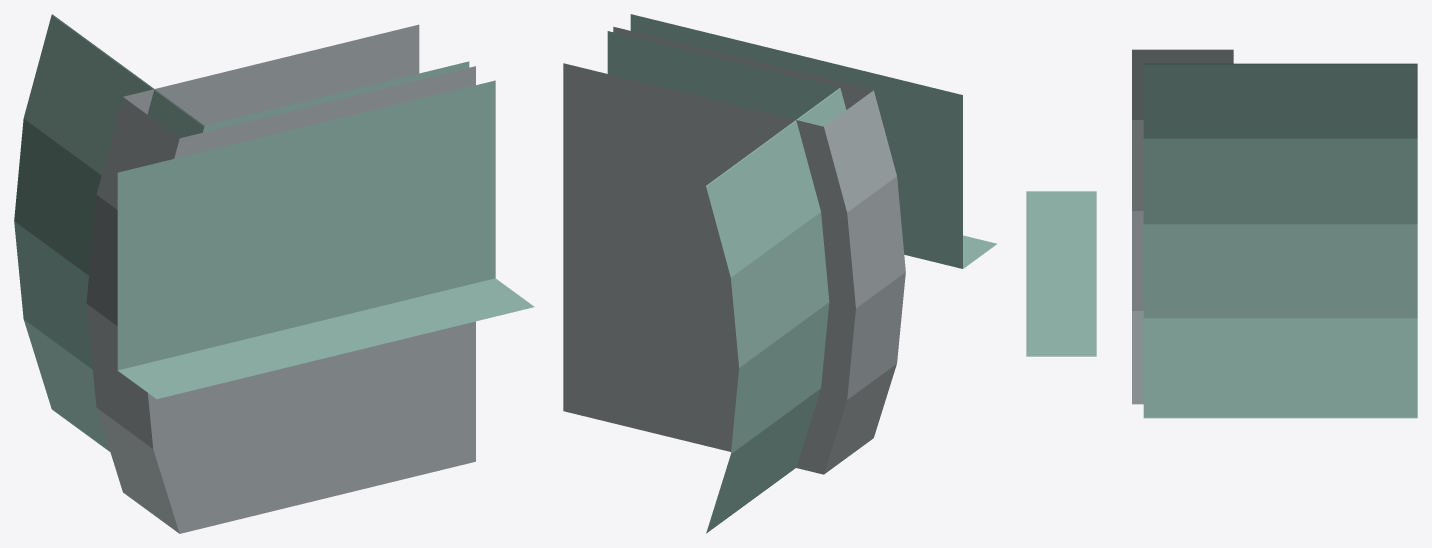
File: cell_126.obj
3 views of the same model, side by side, from view 1: azimuth 30°, elevation 25°; view 2: azimuth 150°, elevation 25°; view 3: azimuth 270°, elevation 25° (orthographic). The views are drawn at different scales.
Bounding box in the file's own units: 1 × 1 × 1.
